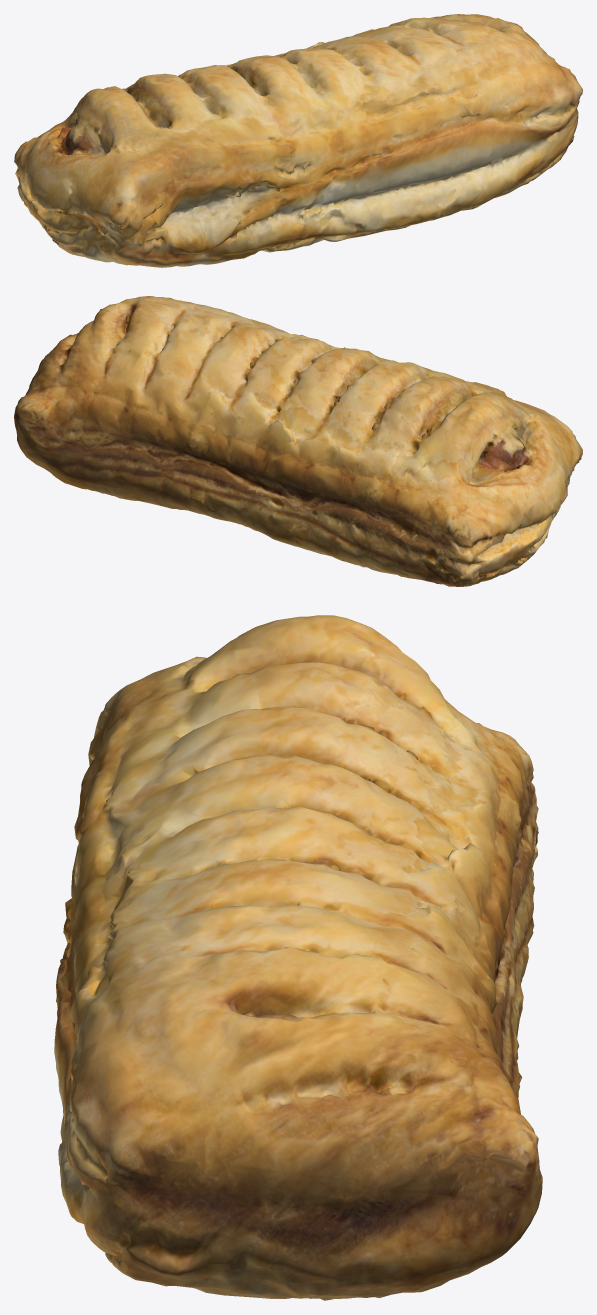
The model's file is BakeryProduct5_LOD1.gltf.
3 views of the same model, one above another, from view 1: azimuth 30°, elevation 25°; view 2: azimuth 150°, elevation 25°; view 3: azimuth 270°, elevation 25° (orthographic). The views are drawn at different scales.
Visible parts, largest first — view 1: BakeryProduct5_LOD1; view 2: BakeryProduct5_LOD1; view 3: BakeryProduct5_LOD1.
Boxes of the visible parts, x1=… form: BakeryProduct5_LOD1: x1=14, y1=14, x2=582, y2=267; BakeryProduct5_LOD1: x1=14, y1=296, x2=582, y2=586; BakeryProduct5_LOD1: x1=54, y1=615, x2=542, y2=1300.
Size of the model in its own units: 0.1409 by 0.043 by 0.0593.
Materials: 1 (1 with a texture image).
